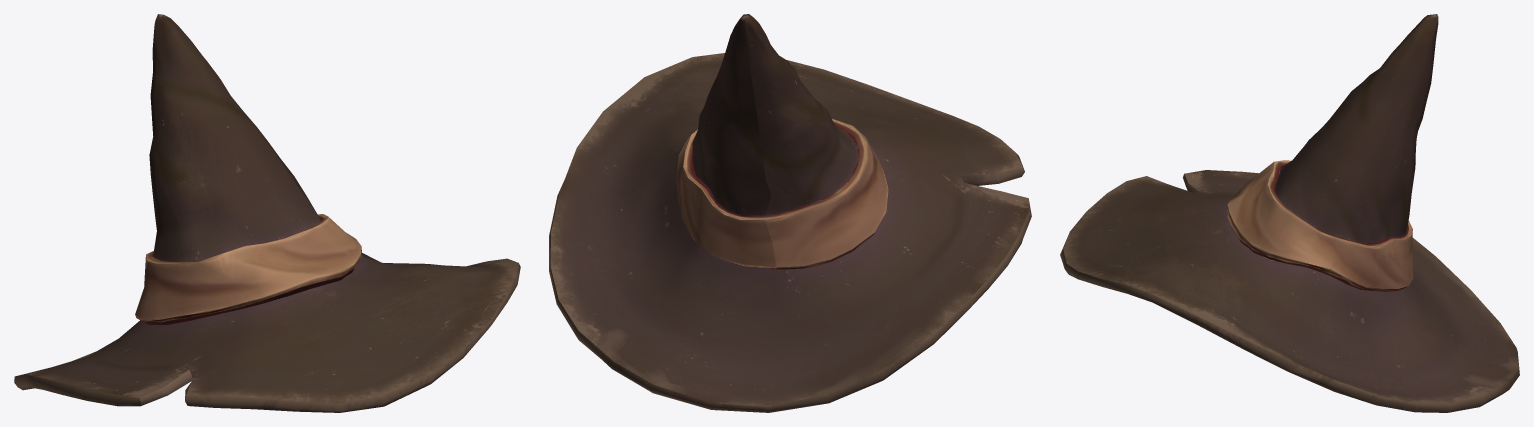
The model's file is hat.glb.
3 views of the same model, side by side, from view 1: azimuth 30°, elevation 25°; view 2: azimuth 150°, elevation 25°; view 3: azimuth 270°, elevation 25° (orthographic). The views are drawn at different scales.
Parts seen in each view (by area): view 1: Object_2; view 2: Object_2; view 3: Object_2.
Boxes of the visible parts, x1=… form: Object_2: x1=14, y1=14, x2=520, y2=412; Object_2: x1=549, y1=14, x2=1031, y2=412; Object_2: x1=1060, y1=14, x2=1519, y2=412.
Size of the model in its own units: 2.19 by 1.77 by 2.13.
1 material, 1 textured.
